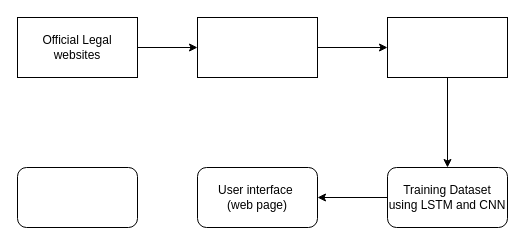
This 525x245 diagram has some shape labels left out. The box of each missing label's shape, as (x1, y1, x2, y2) in pixels:
Data cleaning and Data augmentation: (386, 16, 508, 78)
Web Scrapped cases and IPC section: (196, 16, 318, 78)
